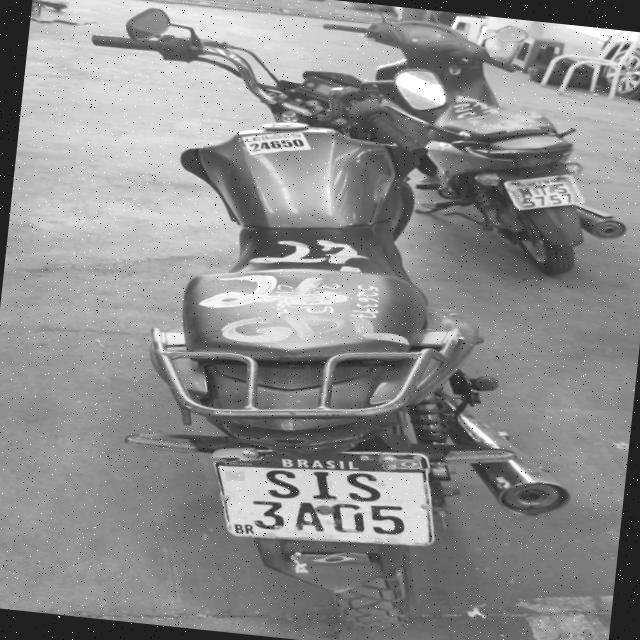Caractere: (328, 500, 368, 536), (344, 469, 384, 504), (367, 502, 408, 536), (262, 468, 303, 500), (248, 498, 286, 531), (294, 501, 328, 534), (309, 469, 340, 502)
